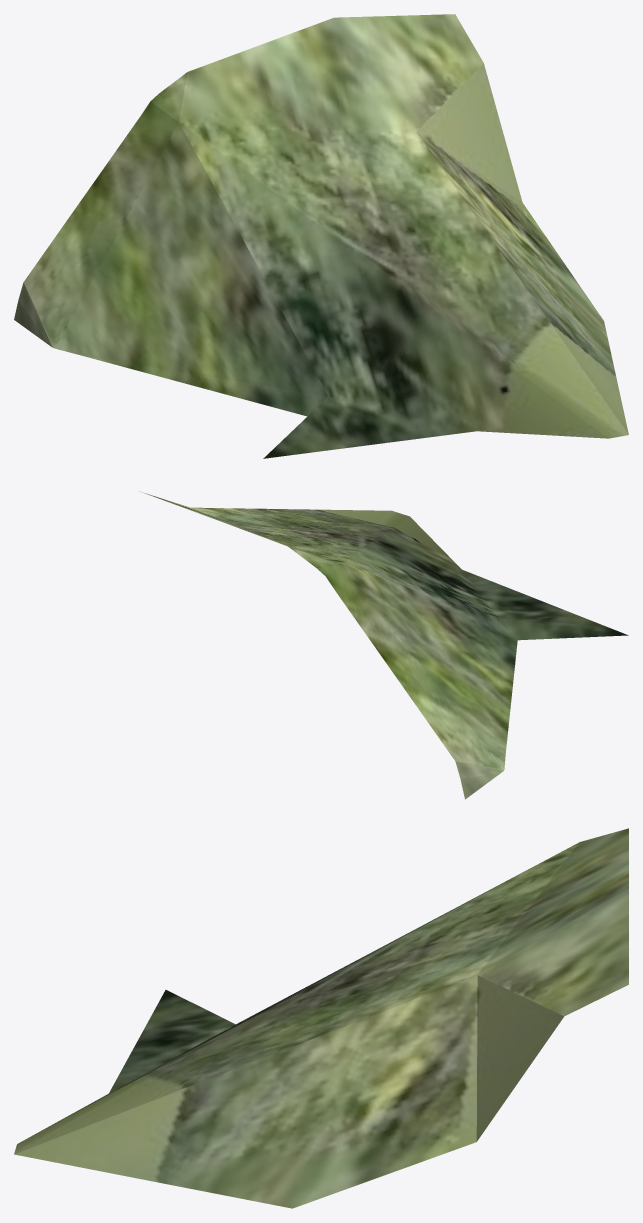
The picture shows the model from 3 angles, top to bottom: view 1: azimuth 30°, elevation 25°; view 2: azimuth 150°, elevation 25°; view 3: azimuth 270°, elevation 25°; orthographic projection. The views are drawn at different scales.
Bounding box in the file's own units: 1.43 × 0.692 × 1.52.
1 material, 1 textured.
